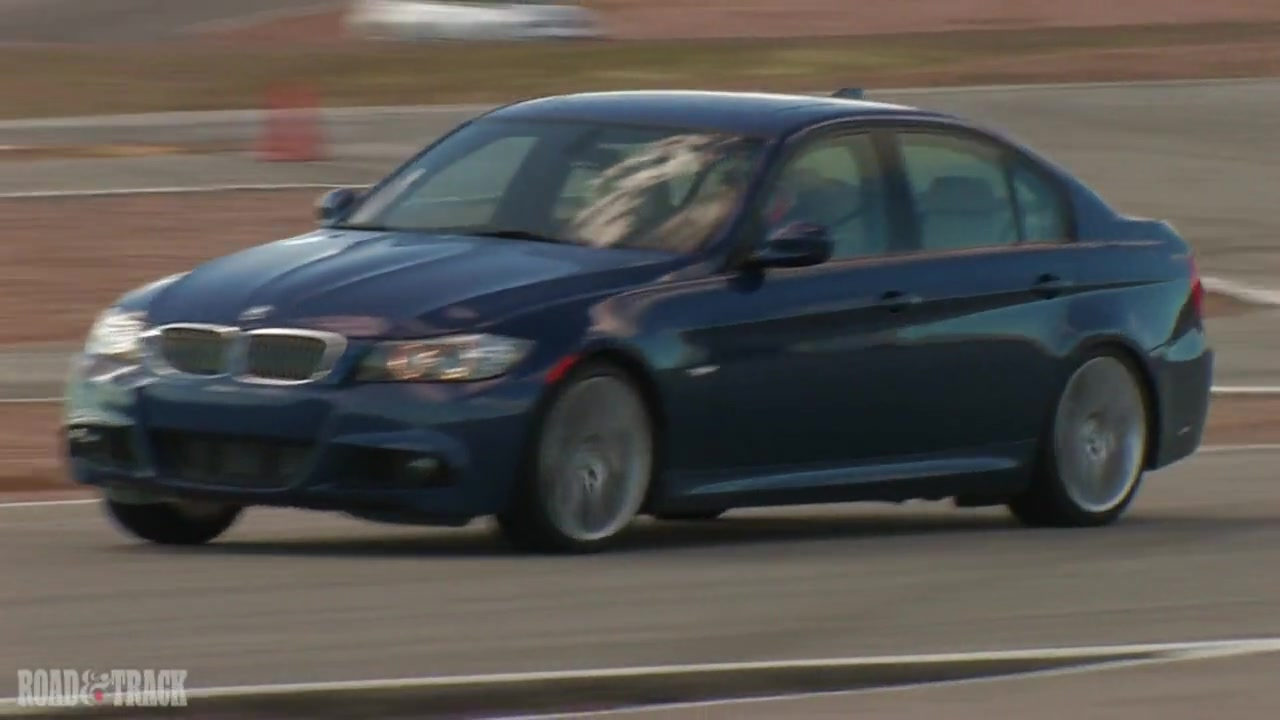car: (57, 73, 1220, 540)
